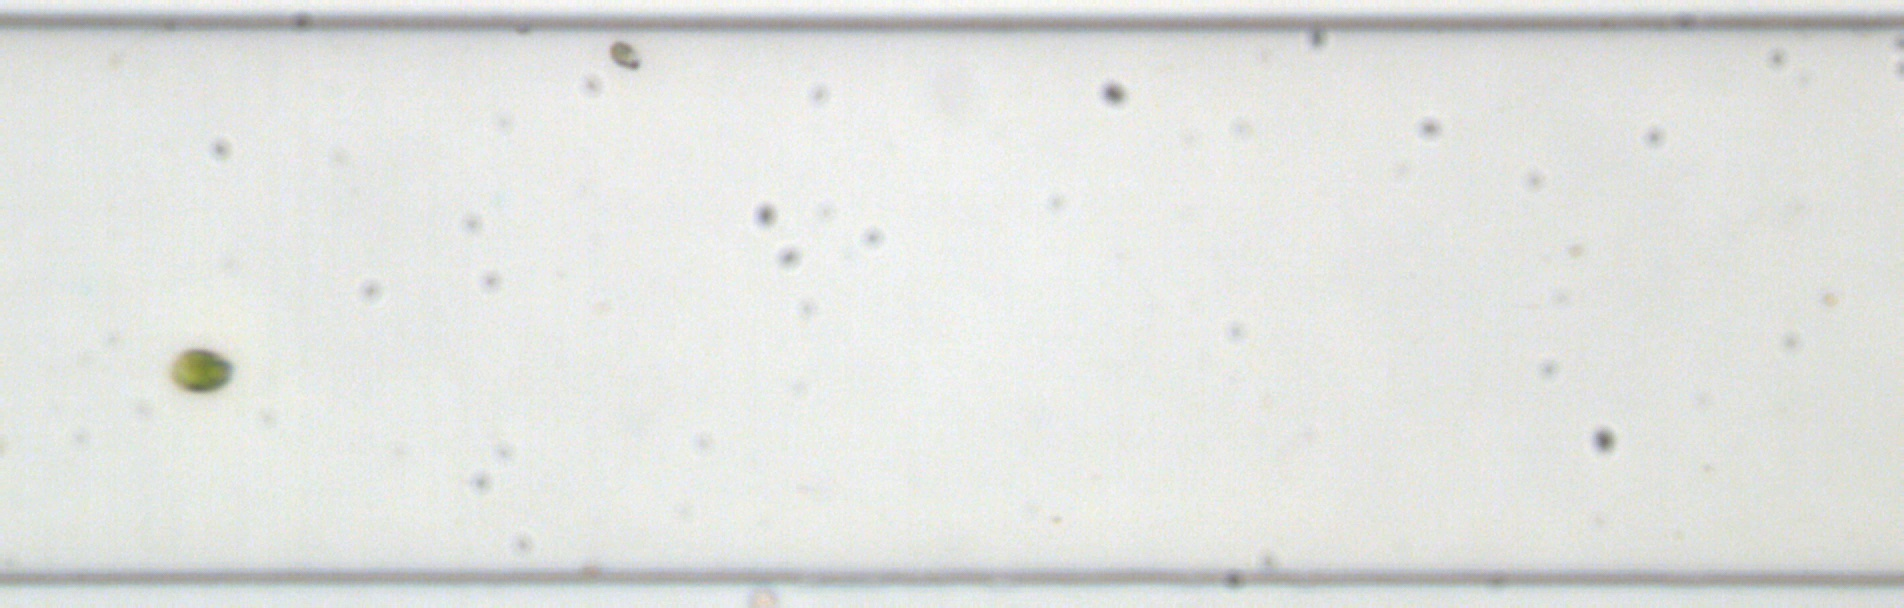Dunaliella salina: (607, 36, 644, 72)
Platymonas: (168, 343, 236, 394)
